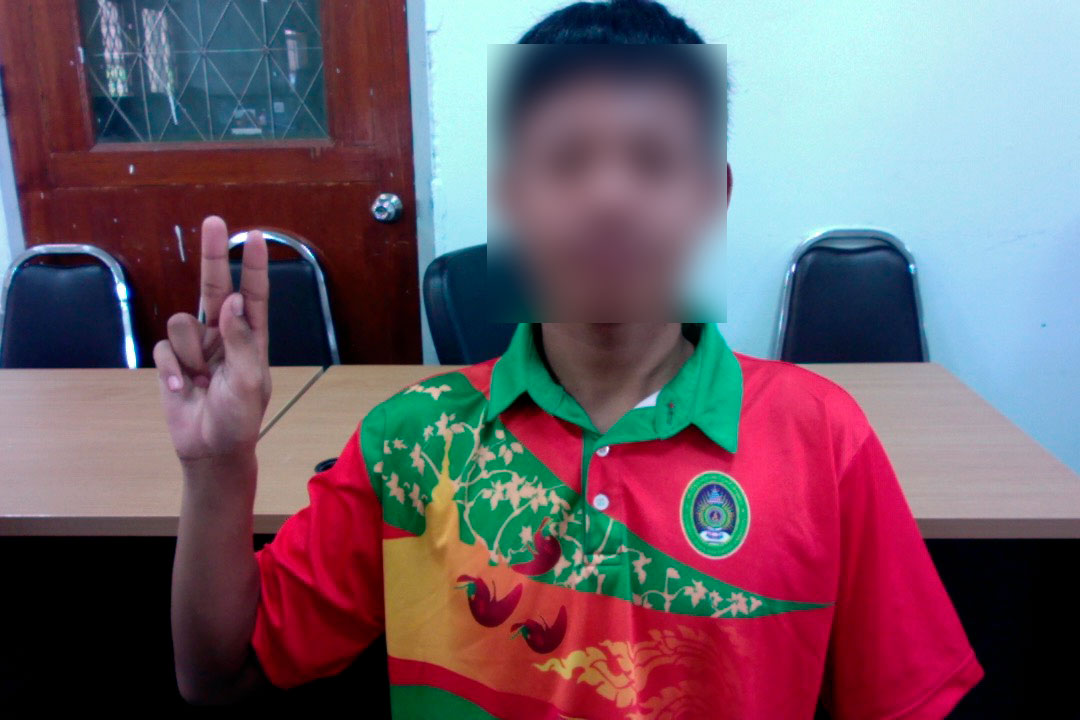ko: (151, 208, 281, 493)
